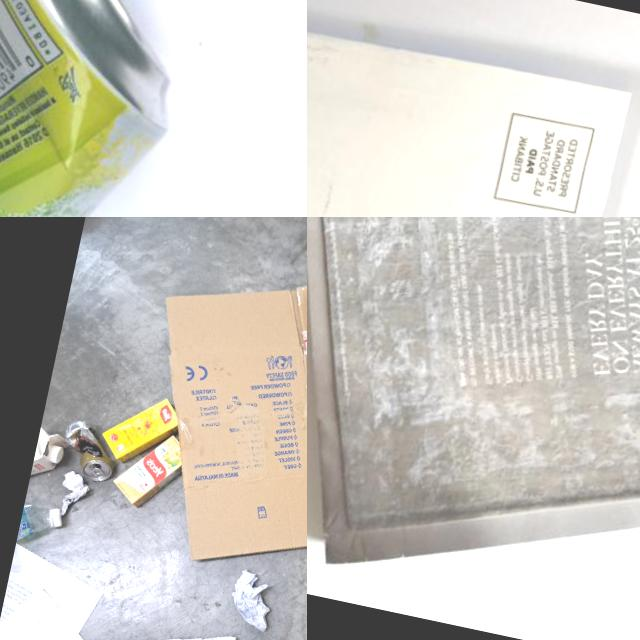aba de lata: (92, 467, 105, 477)
caixinha: (96, 387, 182, 472), (108, 425, 189, 514), (28, 422, 70, 489)
garrafa plástica: (10, 502, 50, 576)
lata: (0, 0, 216, 217), (56, 419, 120, 484)
papel: (307, 217, 640, 640), (307, 0, 629, 217), (0, 539, 108, 638), (0, 581, 110, 640), (225, 568, 278, 632), (55, 470, 93, 520)
papelão: (112, 217, 307, 624)
tampa plástica: (46, 508, 64, 528)
